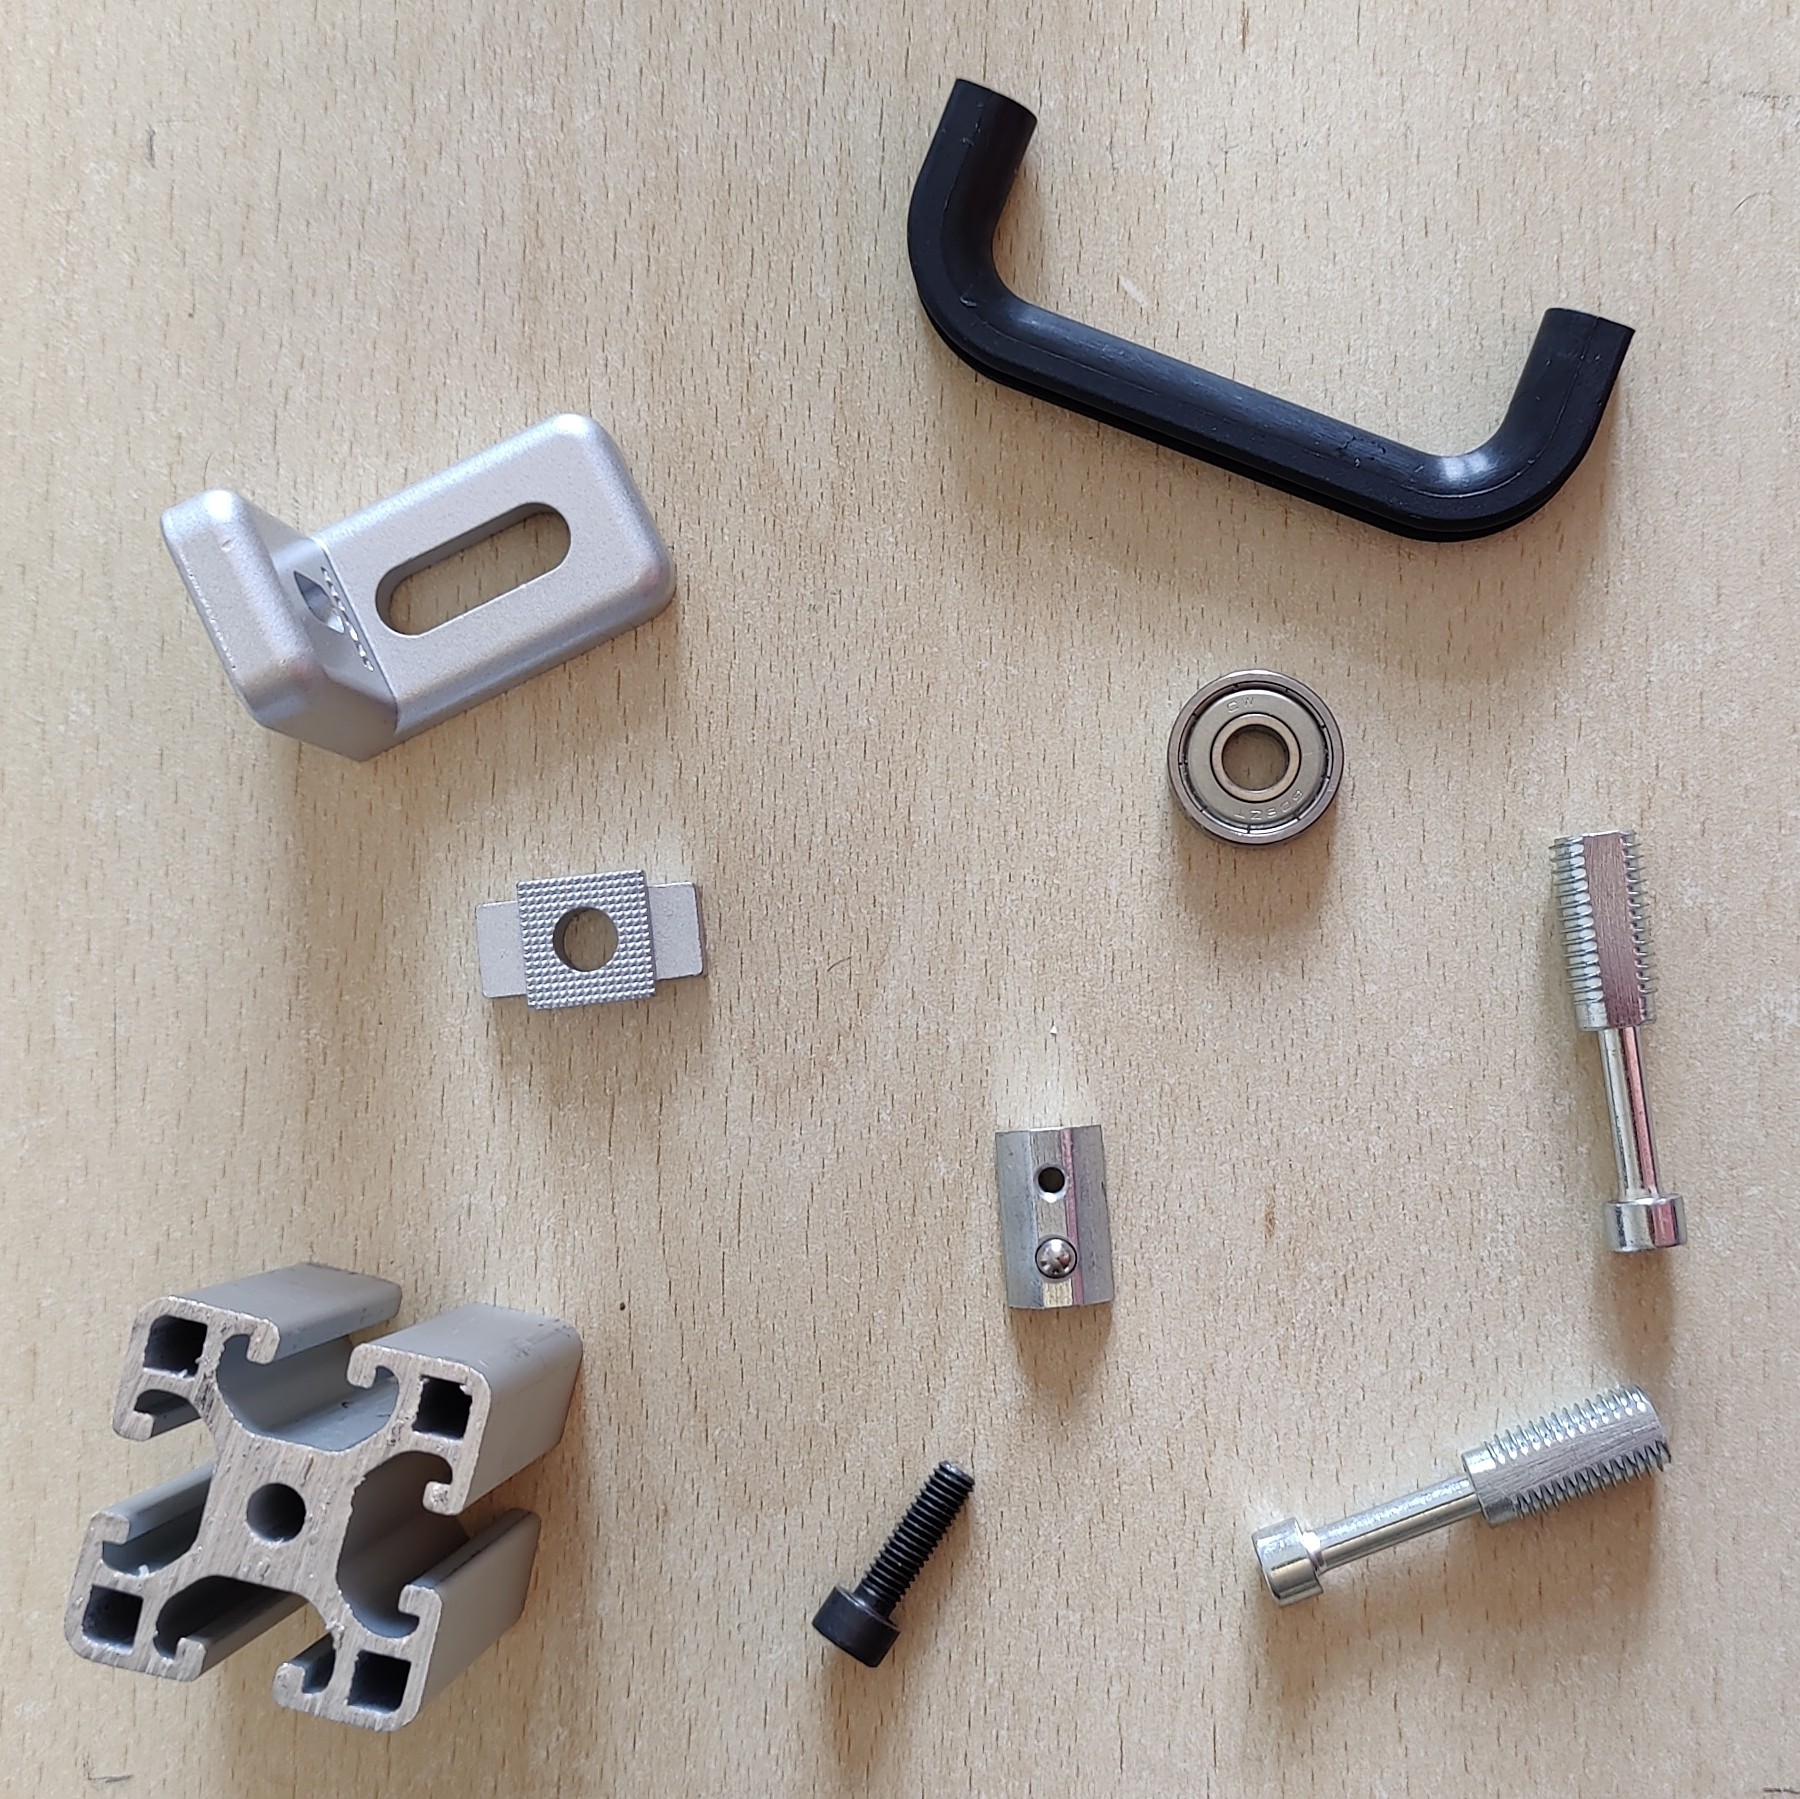Aluminium Extension: (61, 1259, 586, 1733)
Ball Bearing: (1164, 662, 1347, 850)
Multiwinkel: (156, 410, 678, 764)
Pull Handle: (906, 72, 1639, 545)
Shoulder Socket Head Cap Screw: (1250, 1382, 1678, 1608), (1540, 825, 1695, 1260)
Socket Head Cap Screw: (809, 1455, 978, 1670)
T Nut Square: (474, 863, 716, 1013)
T Spring Nut: (993, 1115, 1117, 1315)
